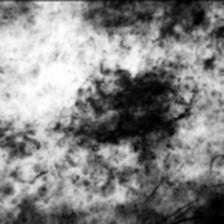Potentially Malignant Skin Tumors: (67, 60, 185, 152)
